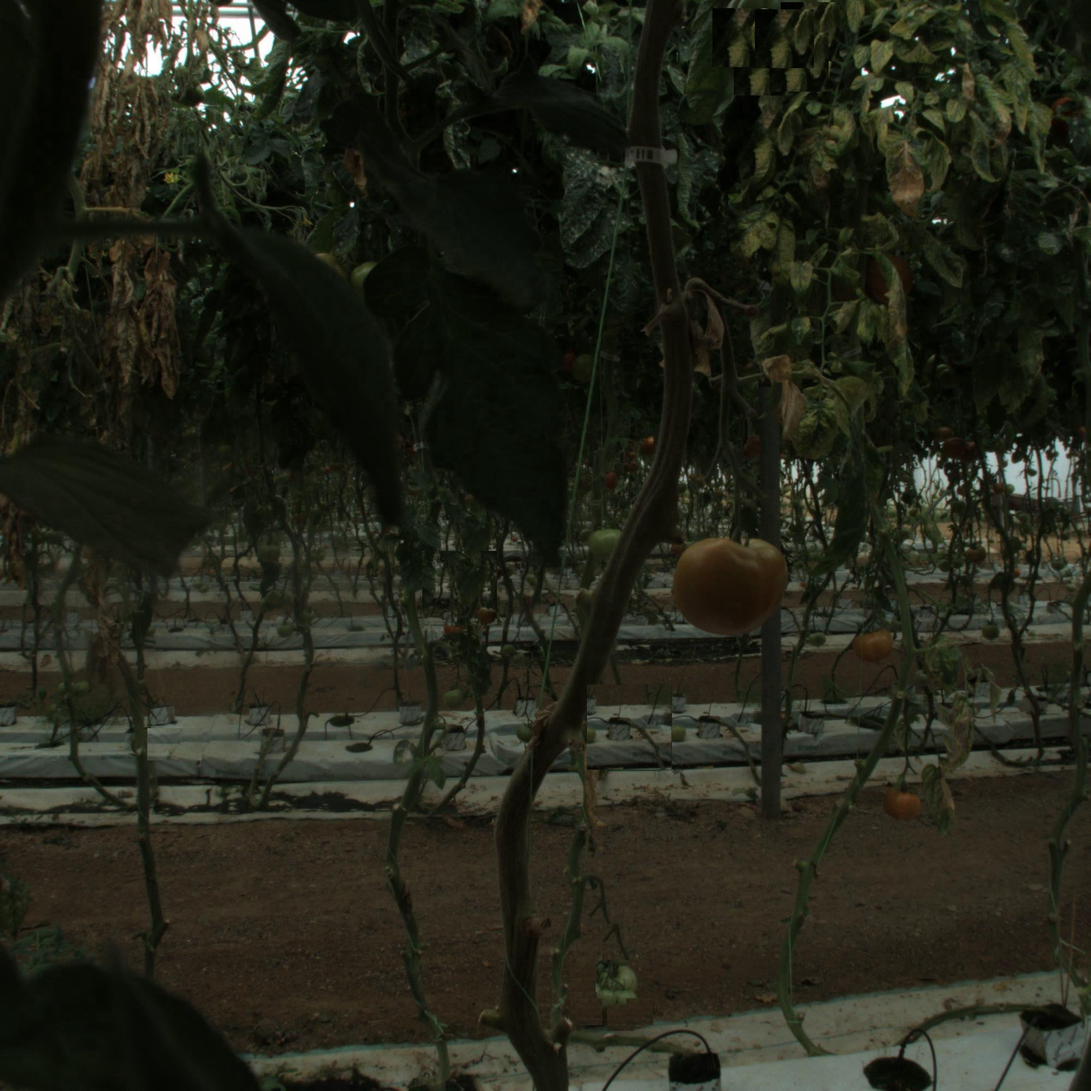['unripe', 'semi-ripe', 'fully-ripe']: (598, 964, 639, 1005), (590, 527, 625, 562)
